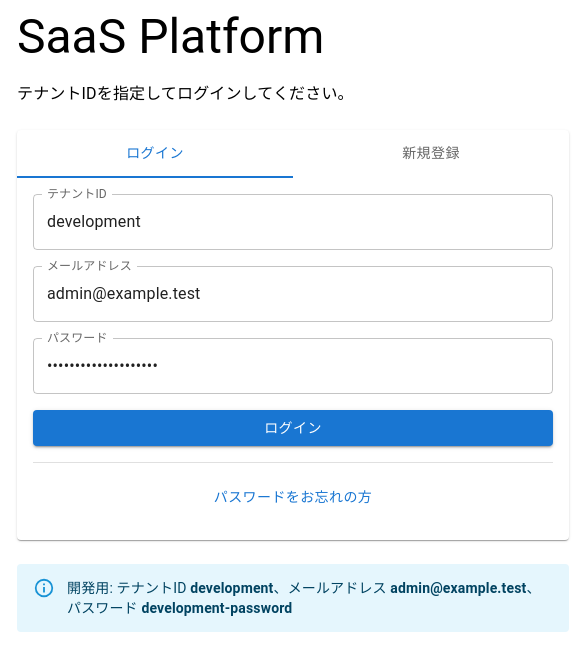
AuthPage password reset › パスワード再設定メールを申請できる
The width and height of the screenshot is (587, 657).
Step 1. Click the button "パスワードをお忘れの方" → (293, 498), box [33,479,553,516]
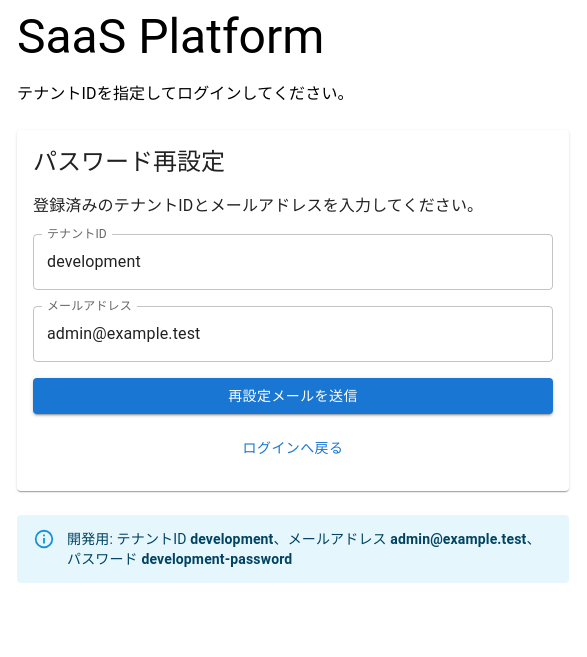
Step 2. Click the button "再設定メールを送信" → (293, 396), box [33,378,553,414]
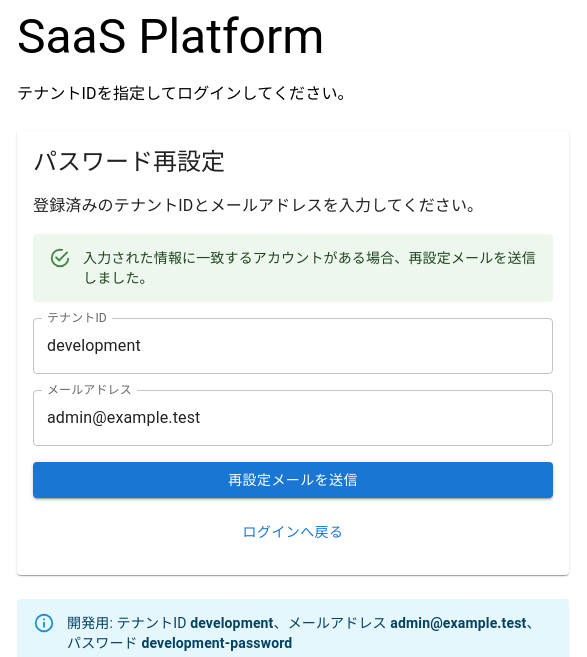
Expected: the text "入力された情報に一致するアカウントがある場合、再設定メールを送信しました。" is shown, [83,240,537,296]
